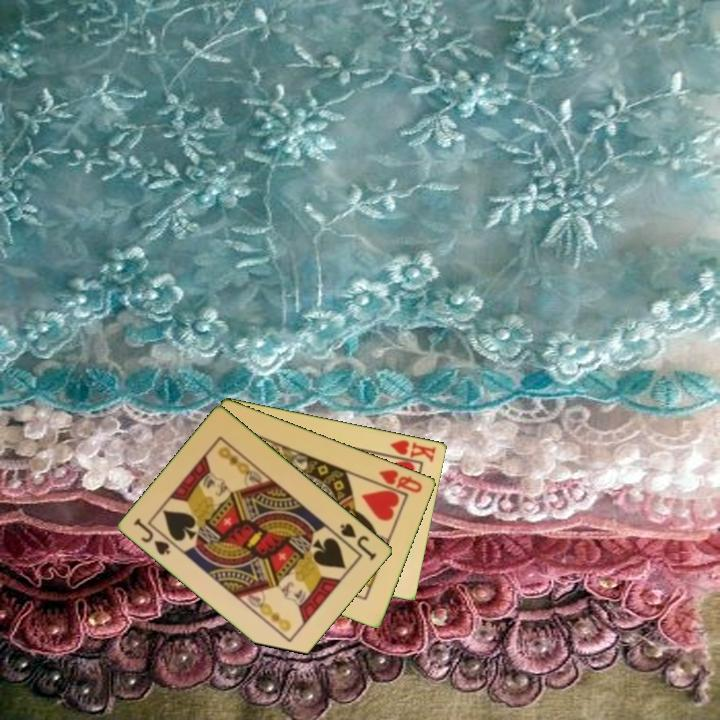Js: (131, 514, 174, 558), (337, 520, 380, 563)
Kh: (382, 436, 439, 465)
Qh: (375, 466, 425, 496)
